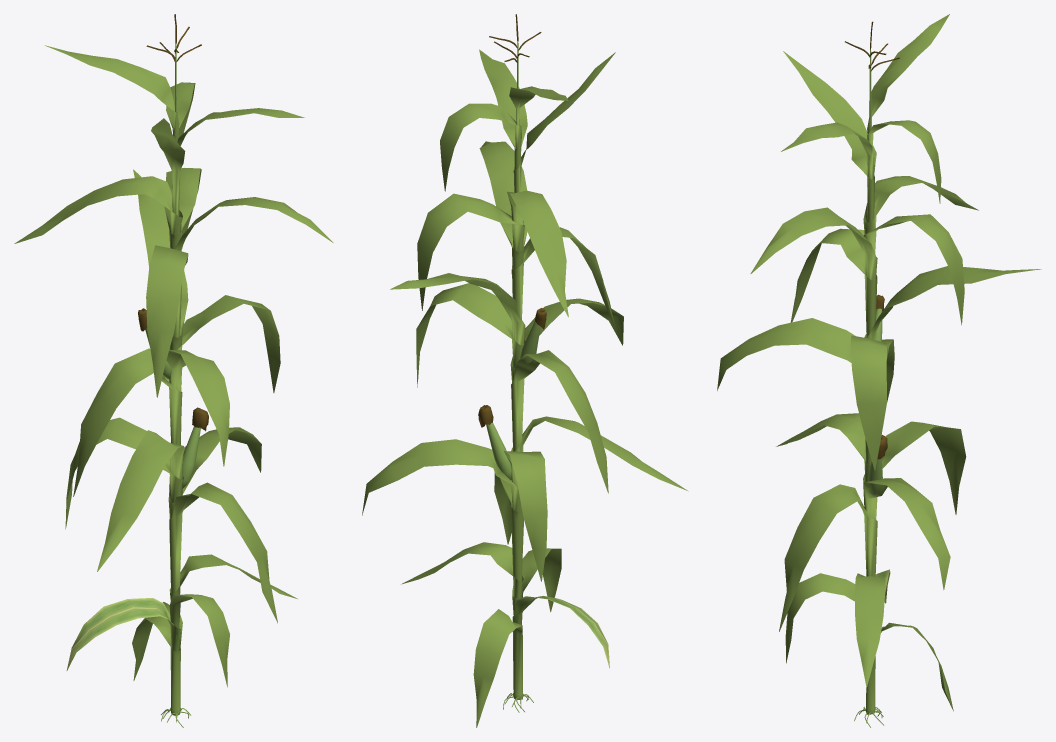
File: maize.dae
The picture shows the model from 3 angles, left to right: view 1: azimuth 30°, elevation 25°; view 2: azimuth 150°, elevation 25°; view 3: azimuth 270°, elevation 25°; orthographic projection.
Visible parts, largest first — view 1: Plane.011; view 2: Plane.011; view 3: Plane.011.
Boxes of the visible parts, x1,y1,x2,y2 form: Plane.011: (14,14,333,727); Plane.011: (362,14,688,727); Plane.011: (717,14,1041,727).
Bounding box in the file's own units: 0.3778 × 0.4312 × 1.03.
3 materials, 3 textured.
